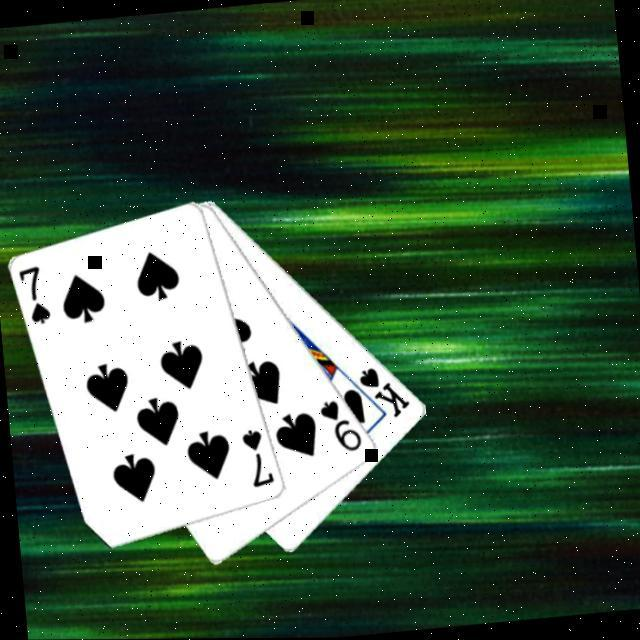7S: (13, 260, 52, 327), (237, 424, 276, 489)
9S: (314, 394, 364, 456)
KS: (352, 360, 412, 422)
